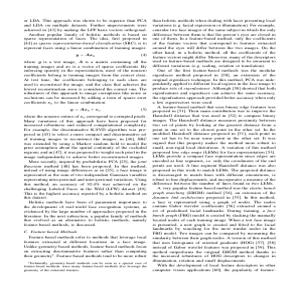text: (150, 17, 282, 274), (21, 17, 148, 273)
